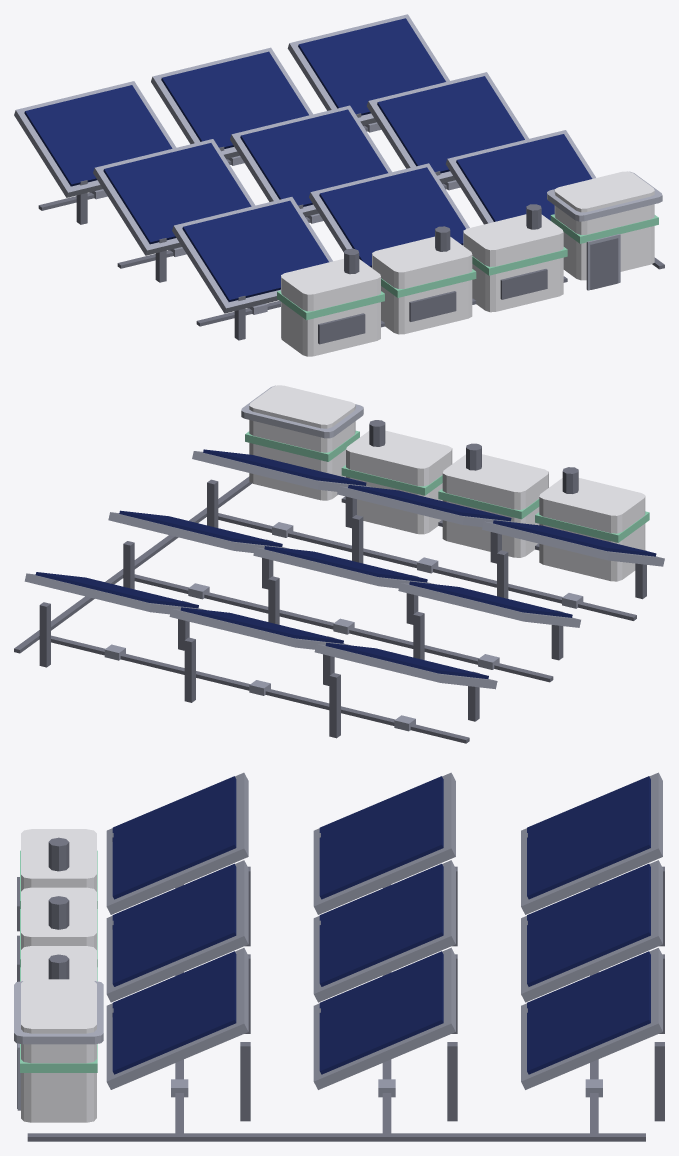
The model's file is solar-2x2-t4.glb.
3 views of the same model, one above another, from view 1: azimuth 30°, elevation 25°; view 2: azimuth 150°, elevation 25°; view 3: azimuth 270°, elevation 25° (orthographic). The views are drawn at different scales.
Parts seen in each view (by area): view 1: solar-2x2-t4; view 2: solar-2x2-t4; view 3: solar-2x2-t4.
Part boxes in pixels (x1,y1,x2,y2): solar-2x2-t4: (14,14,664,356); solar-2x2-t4: (14,385,664,743); solar-2x2-t4: (14,772,664,1141).
Size of the model in its own units: 1.79 by 0.3435 by 1.88.
Materials: 1 (1 with a texture image).
